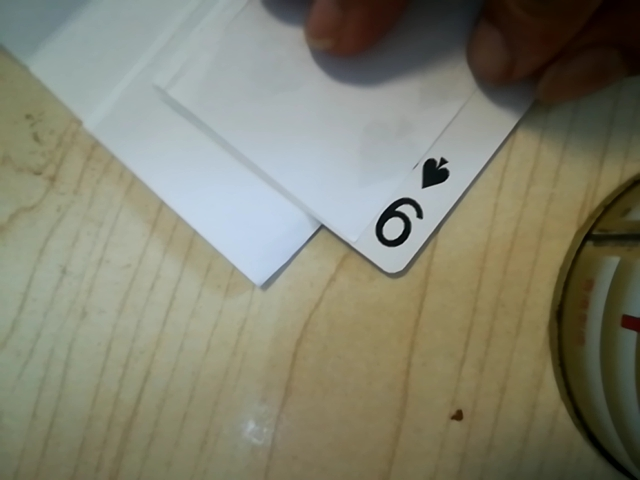ht 9: (358, 141, 468, 265)
